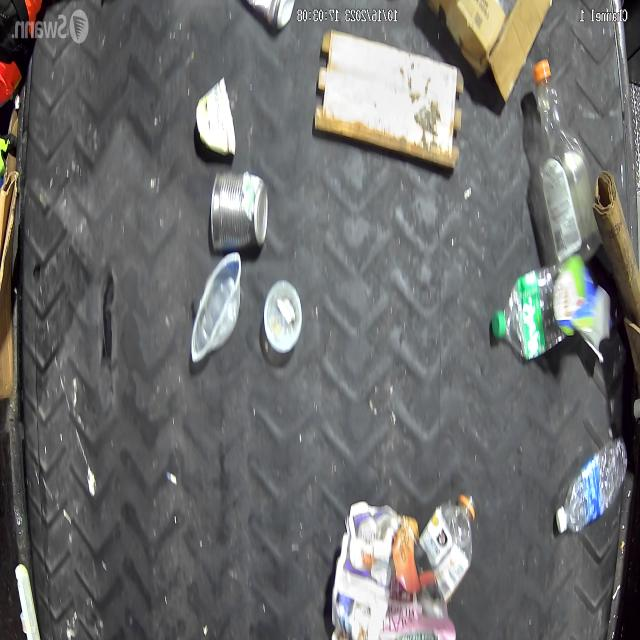can: (209, 166, 269, 254)
plastic_bottle: (538, 51, 596, 254), (490, 257, 596, 358), (556, 432, 628, 534), (414, 489, 476, 601)
